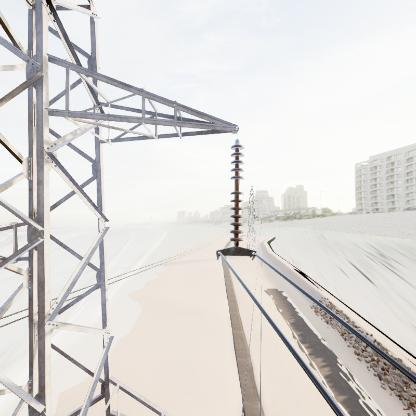insulator: (227, 137, 249, 248)
